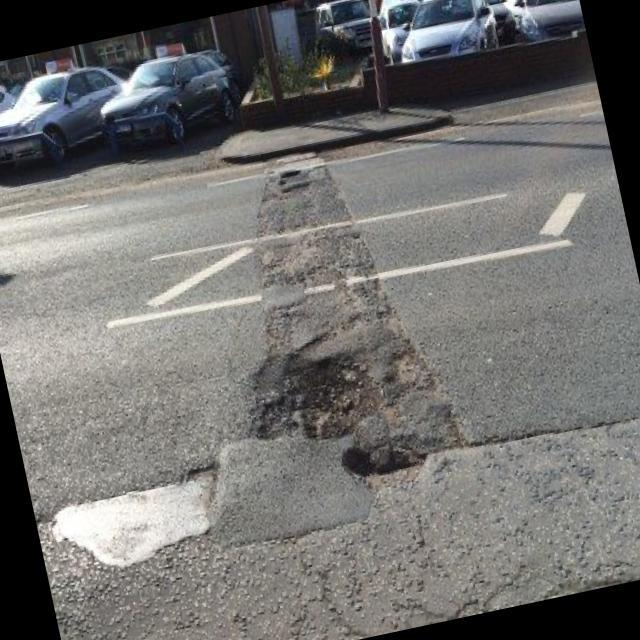Pothole: (227, 318, 430, 512), (52, 456, 232, 578), (251, 208, 356, 307), (268, 158, 314, 200)
